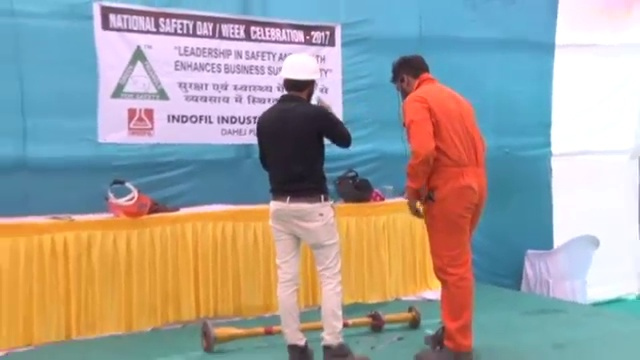helmet: (279, 52, 321, 82)
helmet_off: (390, 54, 432, 98)
helmet_on: (279, 52, 322, 102)
person: (254, 52, 365, 357), (390, 54, 488, 360)
